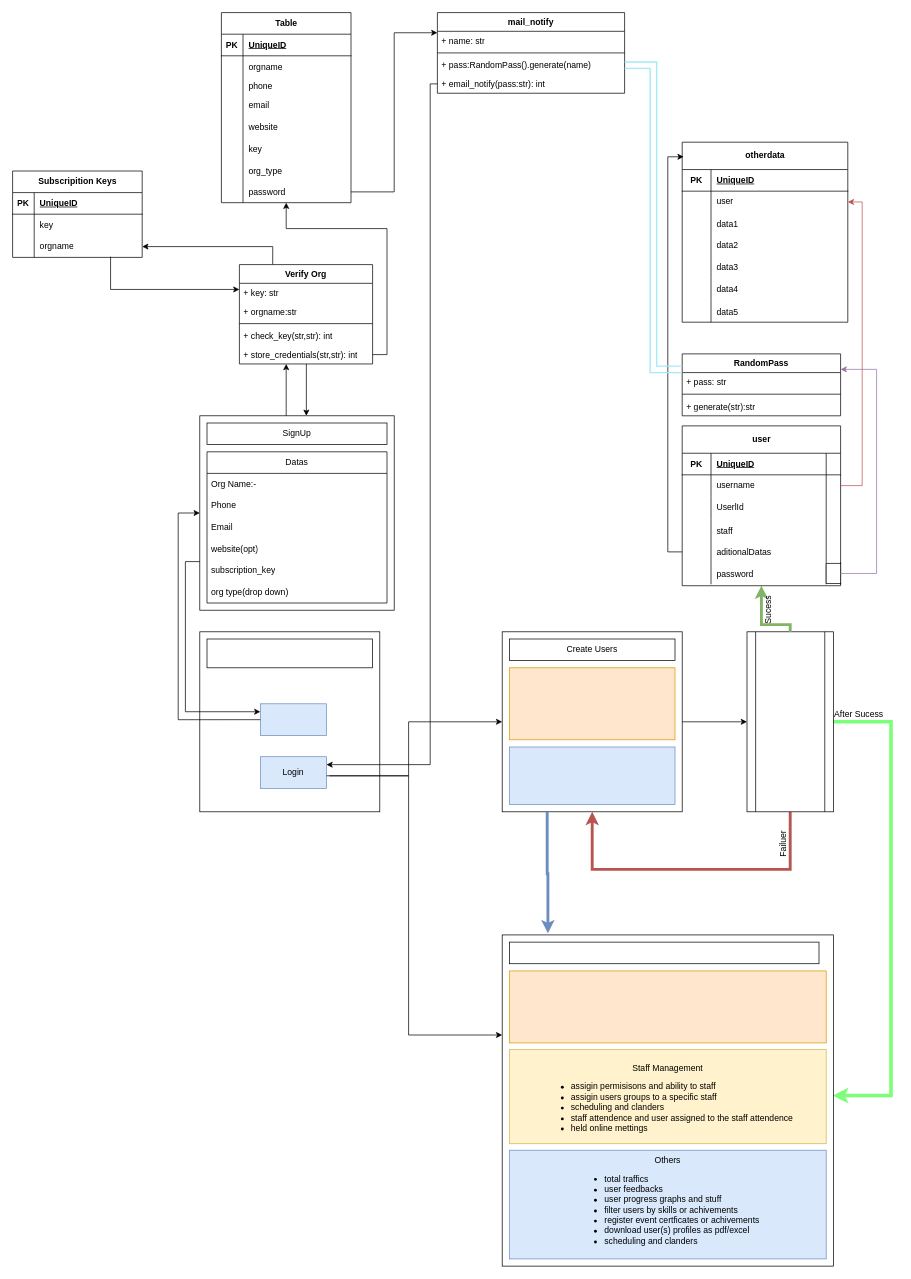
Image size: 911x1279. Some labels were removed from this diagram. Here are the shapes that lost their labels. From the top down, the centre of each, then its label:
the point at 289,653: Organizations/Schools
the point at 293,719: Sign Up
the point at 592,703: Add user from database or any data storeage source
the point at 789,721: Parsing the datas into propper fields.
the point at 592,775: Add user from csv/exce; or any other file source
the point at 664,952: Managemnets System
the point at 667,1006: CURD create/add user(s) update user(s) read user(s) remove/delete user(s)
